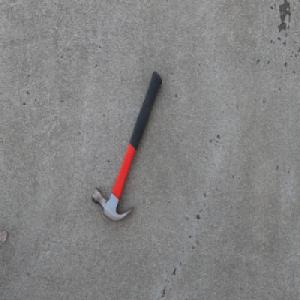Hammer: (91, 69, 162, 222)
